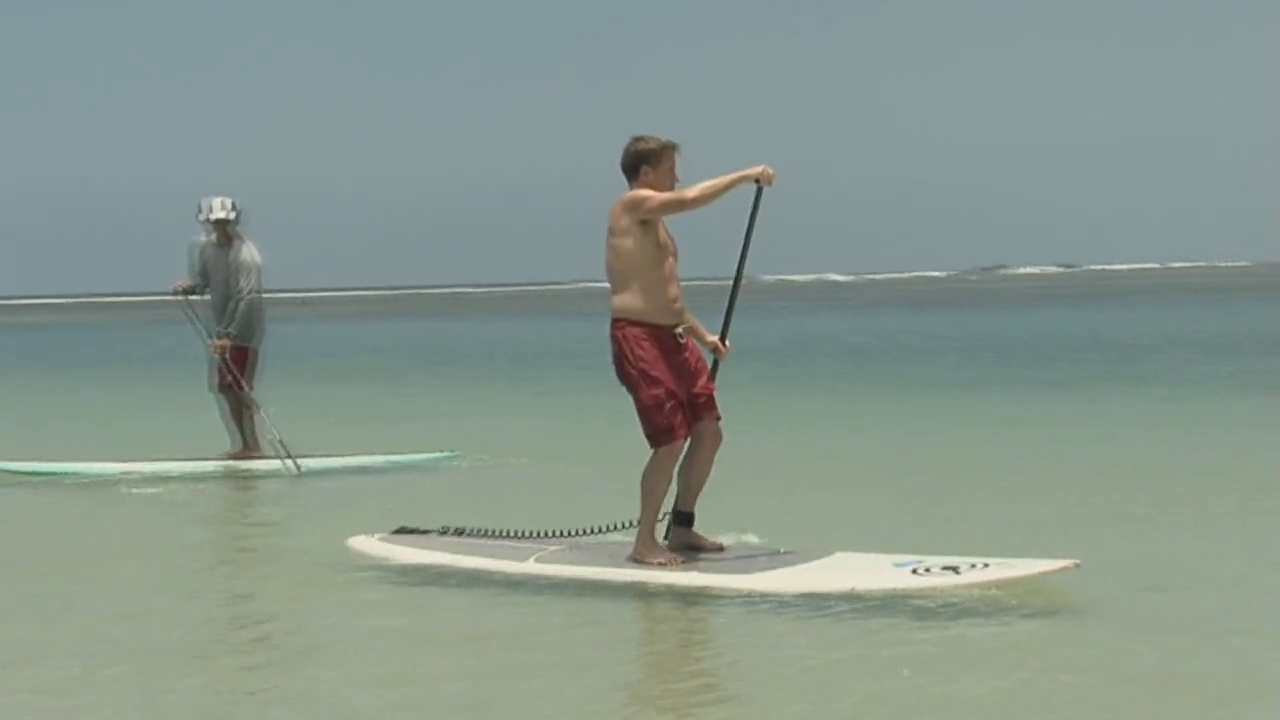person: (603, 135, 777, 567), (174, 197, 265, 459)
